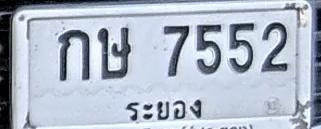2: (261, 21, 288, 72)
5: (228, 22, 254, 73), (196, 24, 222, 74)
7: (162, 24, 189, 76)
A01: (58, 29, 90, 81)
A39: (97, 26, 132, 80)
RYG: (121, 98, 207, 124)
